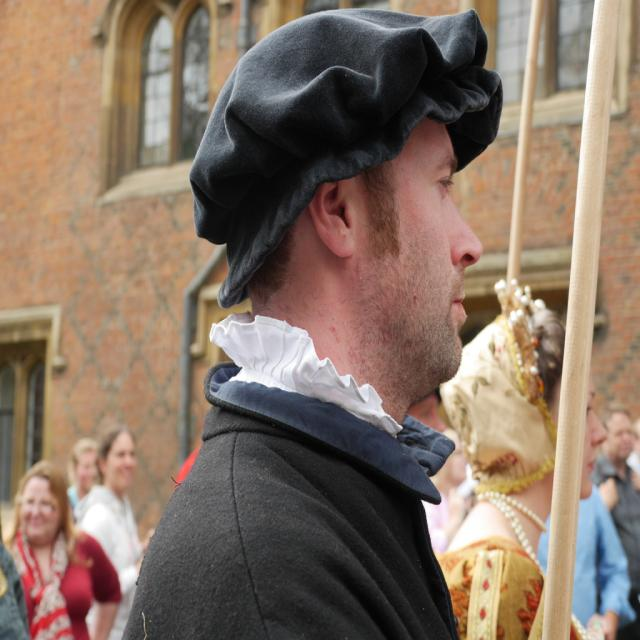Hat: (188, 8, 505, 306)
